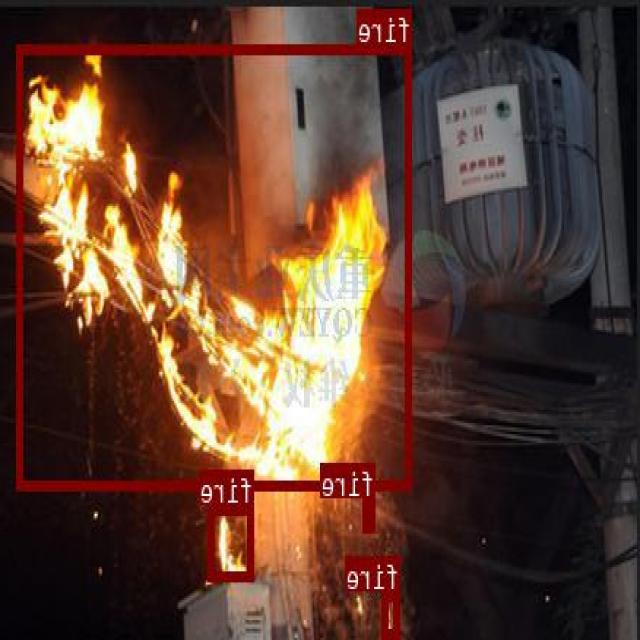fire: (19, 44, 412, 489), (210, 503, 255, 579), (384, 590, 402, 636), (364, 496, 376, 531)
